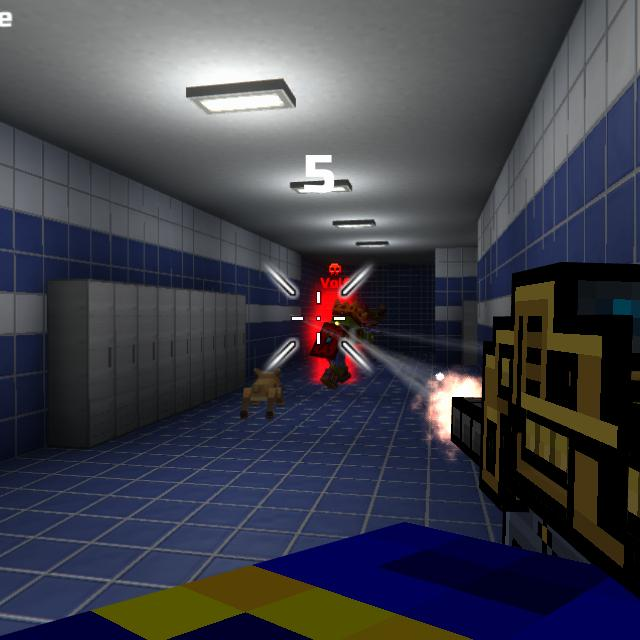Enemy: (318, 300, 368, 389)
